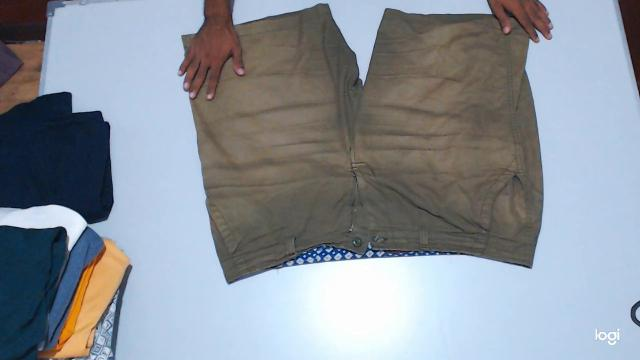new-garment: (191, 4, 543, 283)
